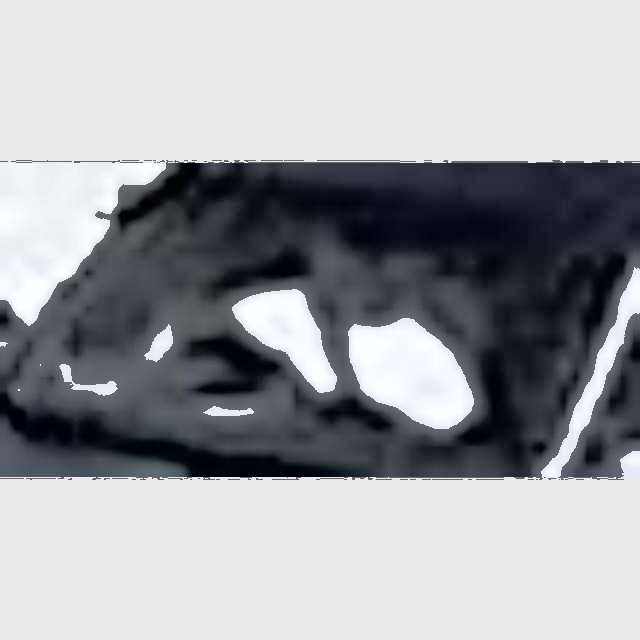pakai: (198, 256, 477, 454)
